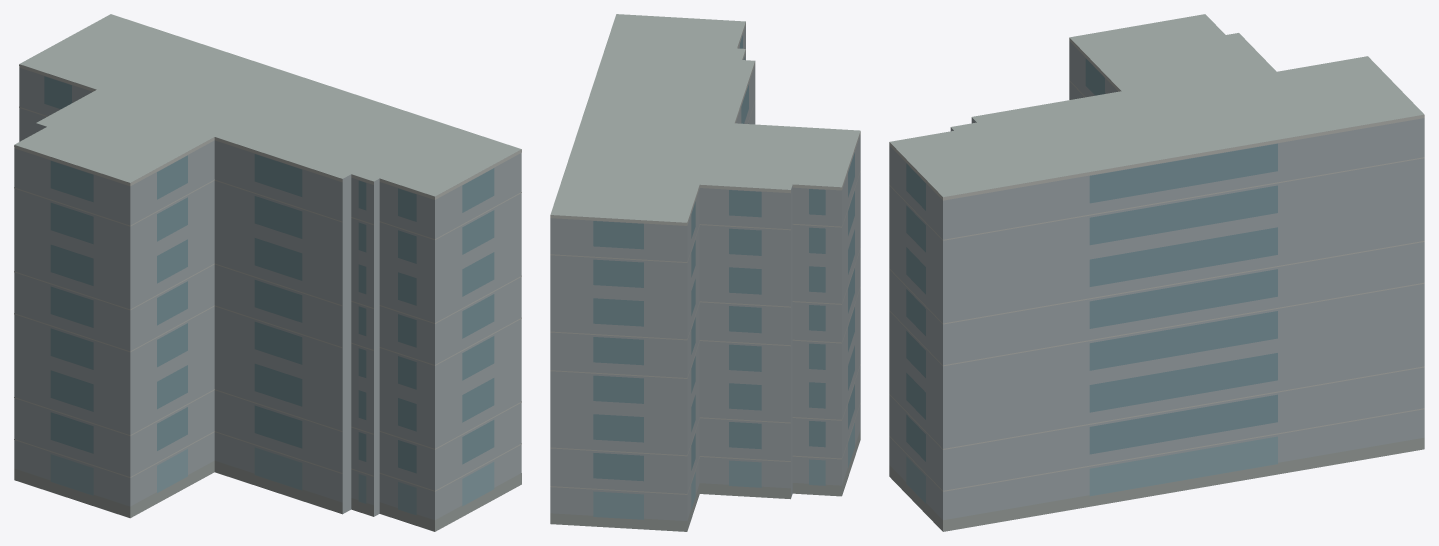
The model's file is survey-upis-32939890.glb.
3 views of the same model, side by side, from view 1: azimuth 30°, elevation 25°; view 2: azimuth 150°, elevation 25°; view 3: azimuth 270°, elevation 25° (orthographic). The views are drawn at different scales.
Parts seen in each view (by area): view 1: survey-upis-32939890.tmp; view 2: survey-upis-32939890.tmp; view 3: survey-upis-32939890.tmp.
Part boxes in pixels (box(x1,y1,x2,y2)): survey-upis-32939890.tmp: box(14, 14, 521, 531); survey-upis-32939890.tmp: box(550, 14, 860, 531); survey-upis-32939890.tmp: box(889, 14, 1424, 531).
Bounding box in the file's own units: 27.61 × 23.5 × 34.08.
